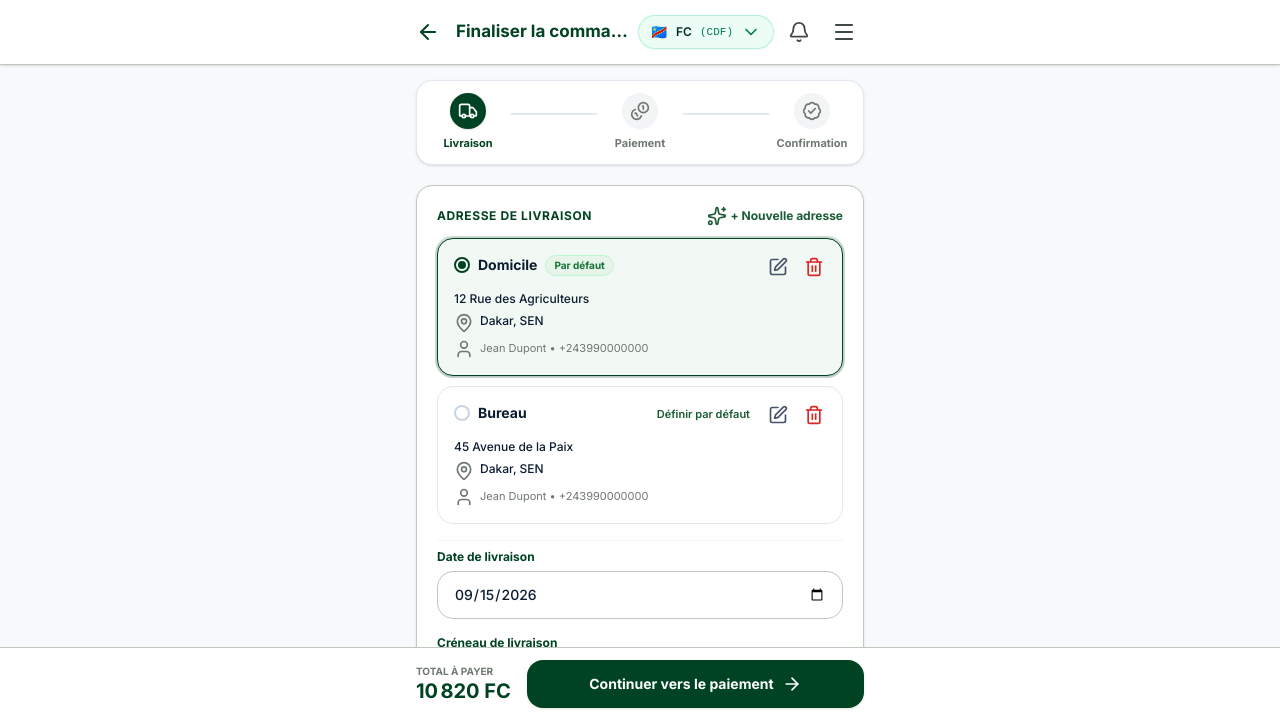
Test: CheckoutPage (/checkout) › selects saved addresses from the list and transitions to Step 2: Paiement
Expected: the text "12 Rue des Agriculteurs" is shown, [454,290,589,306]
Expected: the text "45 Avenue de la Paix" is shown, [454,438,573,454]
Note: Click Bureau address
Click the text "Bureau": {"x": 502, "y": 412} [478,402,527,422]
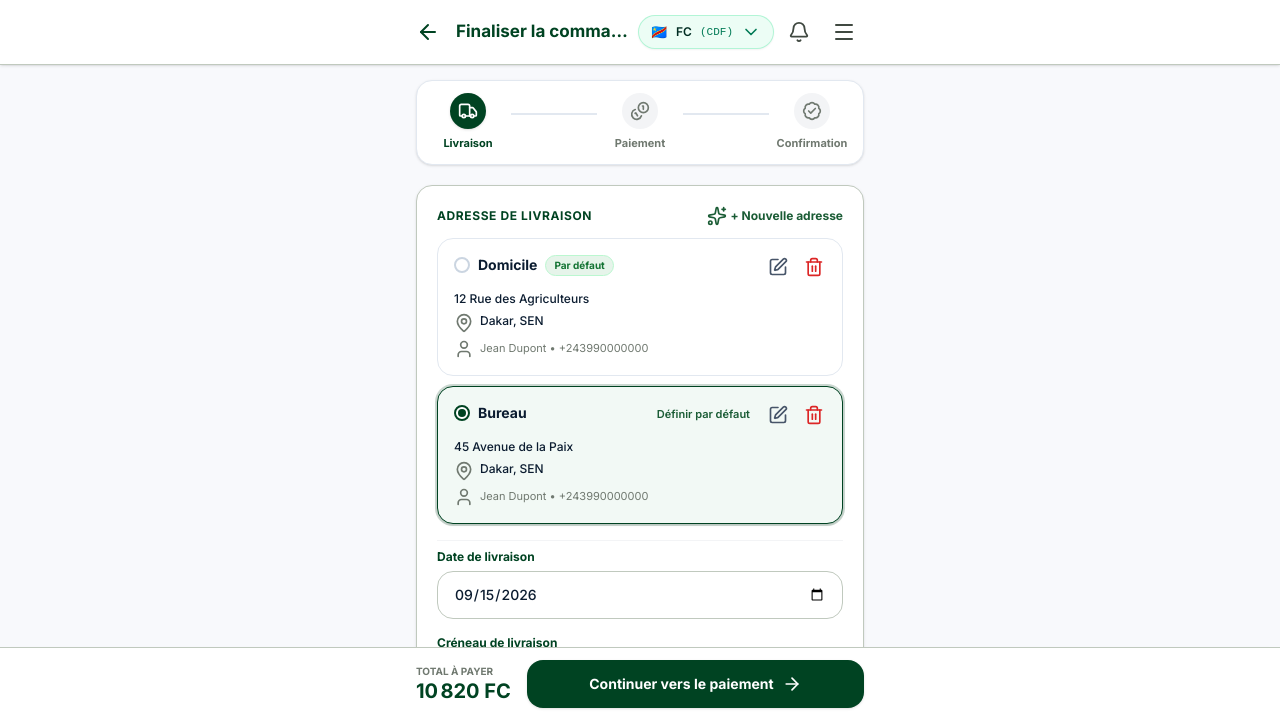
Note: Click continue to payment in sticky bar
Click the button with test id "continue-button": {"x": 695, "y": 684} [527,660,864,708]
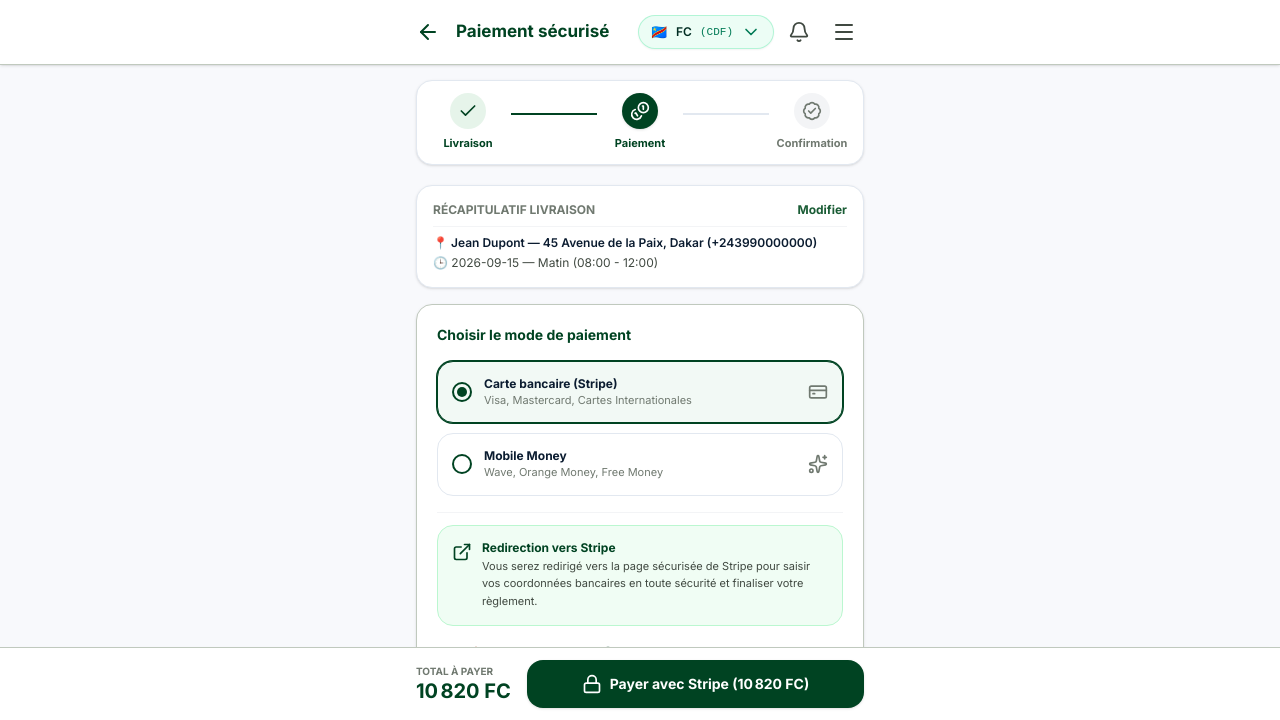
Result: the heading "Choisir le mode de paiement" is shown at [437,326,631,342]
Result: the text "📍 Jean Dupont — 45 Avenue de la Paix, Dakar (+243990000000)" is shown at [433,234,847,250]
